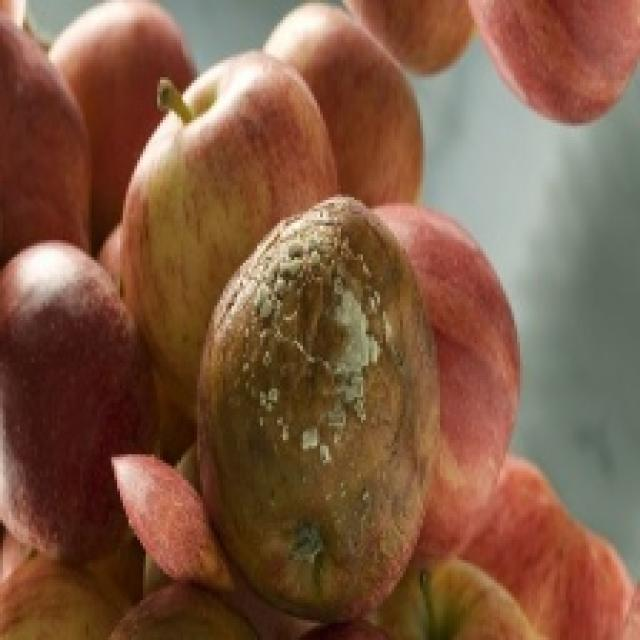rotten_apple: (213, 202, 426, 610)
